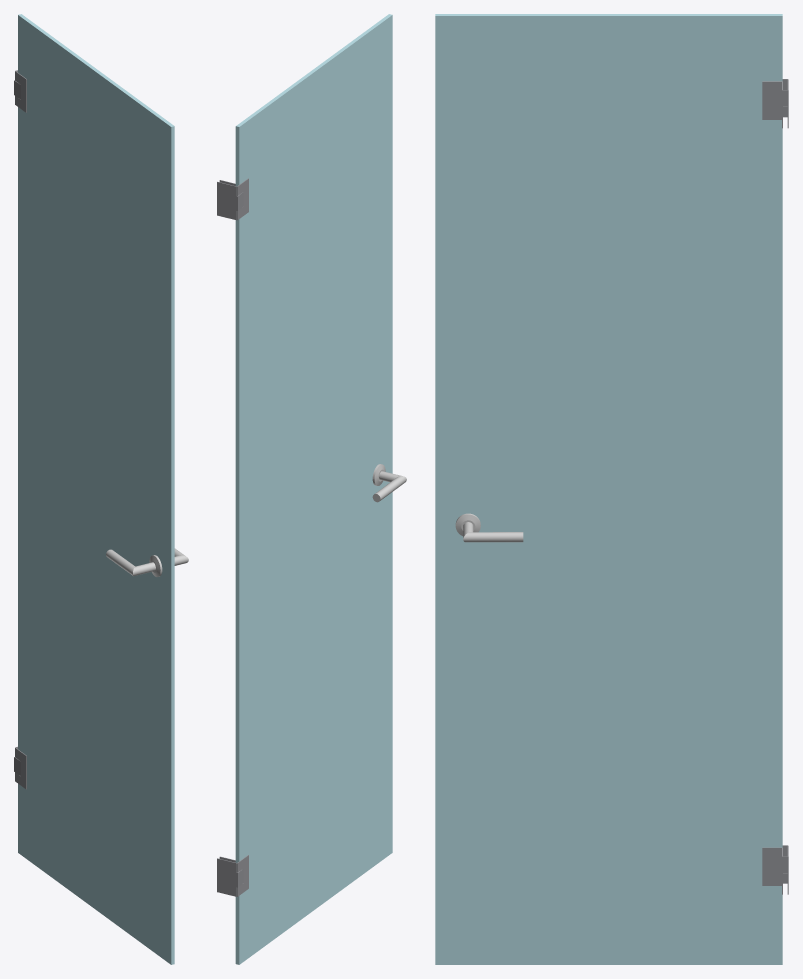
File: Tuere_WC.glb
The picture shows the model from 3 angles, left to right: view 1: azimuth 30°, elevation 25°; view 2: azimuth 150°, elevation 25°; view 3: azimuth 270°, elevation 25°; orthographic projection. The views are drawn at different scales.
Visible parts, largest first — view 1: Mesh1 Component_796 G_21_T_re_WC_dwg1 Model, Mesh13 Component_808 G_21_T_re_WC_dwg1 Model; view 2: Mesh1 Component_796 G_21_T_re_WC_dwg1 Model, Mesh4 Component_799 G_21_T_re_WC_dwg1 Model, Mesh9 Component_804 G_21_T_re_WC_dwg1 Model, Mesh13 Component_808 G_21_T_re_WC_dwg1 Model; view 3: Mesh1 Component_796 G_21_T_re_WC_dwg1 Model, Mesh12 Component_807 G_21_T_re_WC_dwg1 Model, Mesh5 Component_800 G_21_T_re_WC_dwg1 Model, Mesh10 Component_805 G_21_T_re_WC_dwg1 Model.
Boxes of the visible parts, <box> form: Mesh1 Component_796 G_21_T_re_WC_dwg1 Model: <box>18,14,174,964</box>; Mesh13 Component_808 G_21_T_re_WC_dwg1 Model: <box>106,549,162,576</box>; Mesh1 Component_796 G_21_T_re_WC_dwg1 Model: <box>235,14,392,964</box>; Mesh4 Component_799 G_21_T_re_WC_dwg1 Model: <box>217,858,236,896</box>; Mesh9 Component_804 G_21_T_re_WC_dwg1 Model: <box>217,181,236,220</box>; Mesh13 Component_808 G_21_T_re_WC_dwg1 Model: <box>372,464,406,502</box>; Mesh1 Component_796 G_21_T_re_WC_dwg1 Model: <box>435,14,782,964</box>; Mesh12 Component_807 G_21_T_re_WC_dwg1 Model: <box>455,513,523,542</box>; Mesh5 Component_800 G_21_T_re_WC_dwg1 Model: <box>762,847,782,885</box>; Mesh10 Component_805 G_21_T_re_WC_dwg1 Model: <box>762,81,782,119</box>.
Size of the model in its own units: 15.86 by 225 by 75.78.
